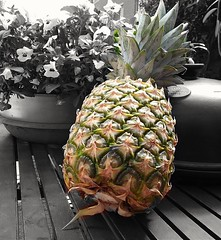Pineapple: (61, 2, 207, 219)
